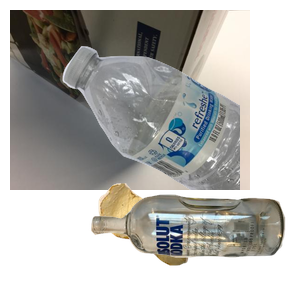cardboard: (10, 10, 250, 190)
glass: (88, 192, 300, 300)
plastic: (60, 44, 300, 224)
trash: (96, 181, 277, 300)
